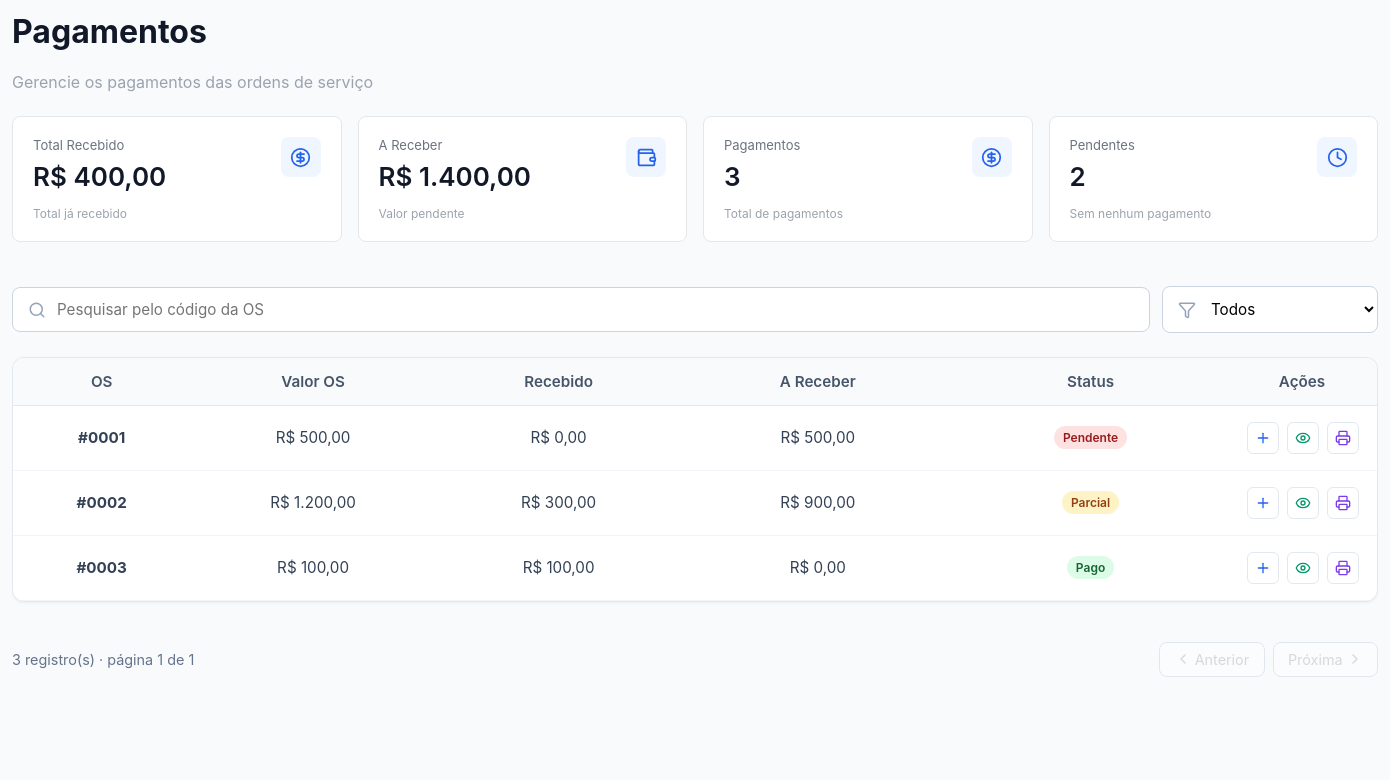
Página de Pagamentos › pesquisa e filtro (no servidor) › pesquisa pelo código da OS: o termo vai ao servidor e só o resultado aparece
Check: the text "#0001" is shown, box [78,428,125,447]
Type "3" into the field with placeholder "Pesquisar pelo código da OS". click: (581, 310)
box: [12,287,1150,332]
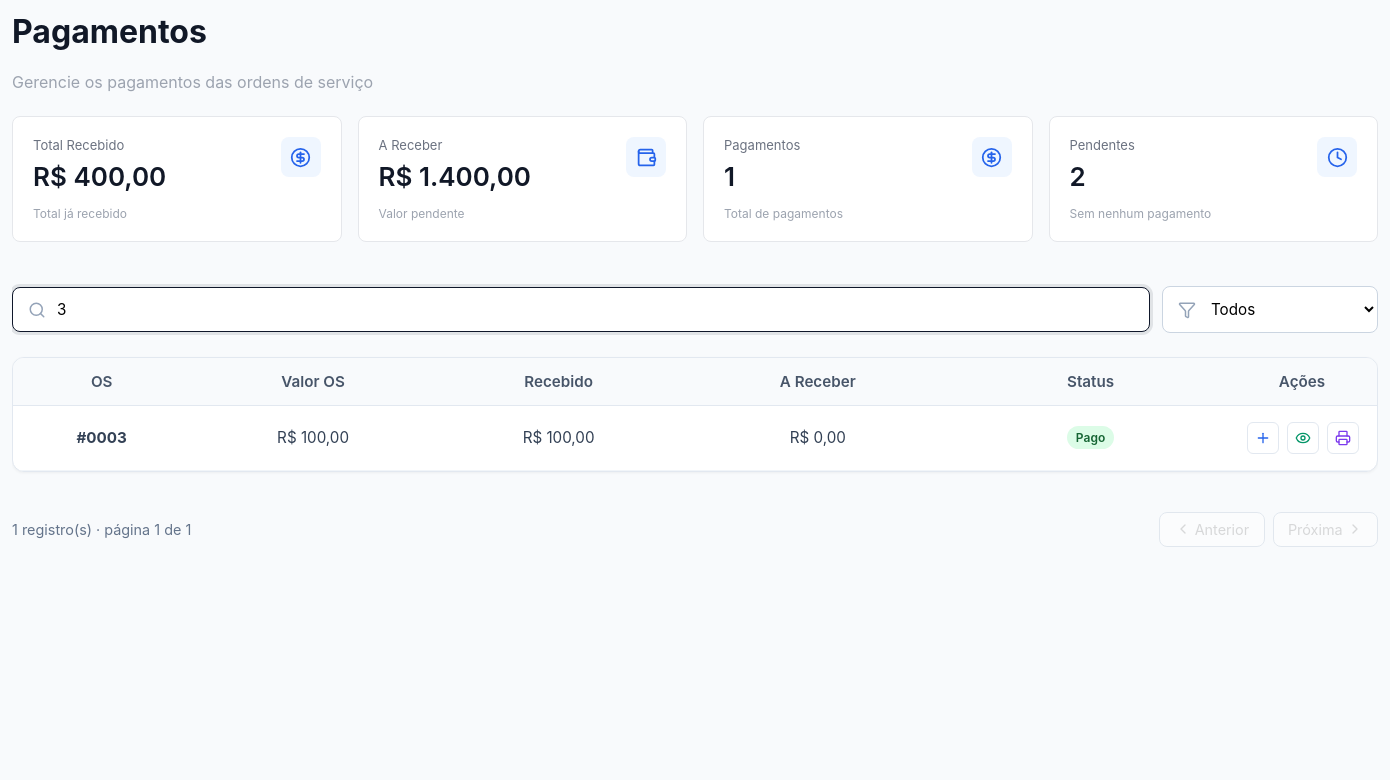
Check: the text "#0003" is shown, box [76,428,127,447]
Check: the text "#0001" is gone
Check: the text "#0002" is gone
